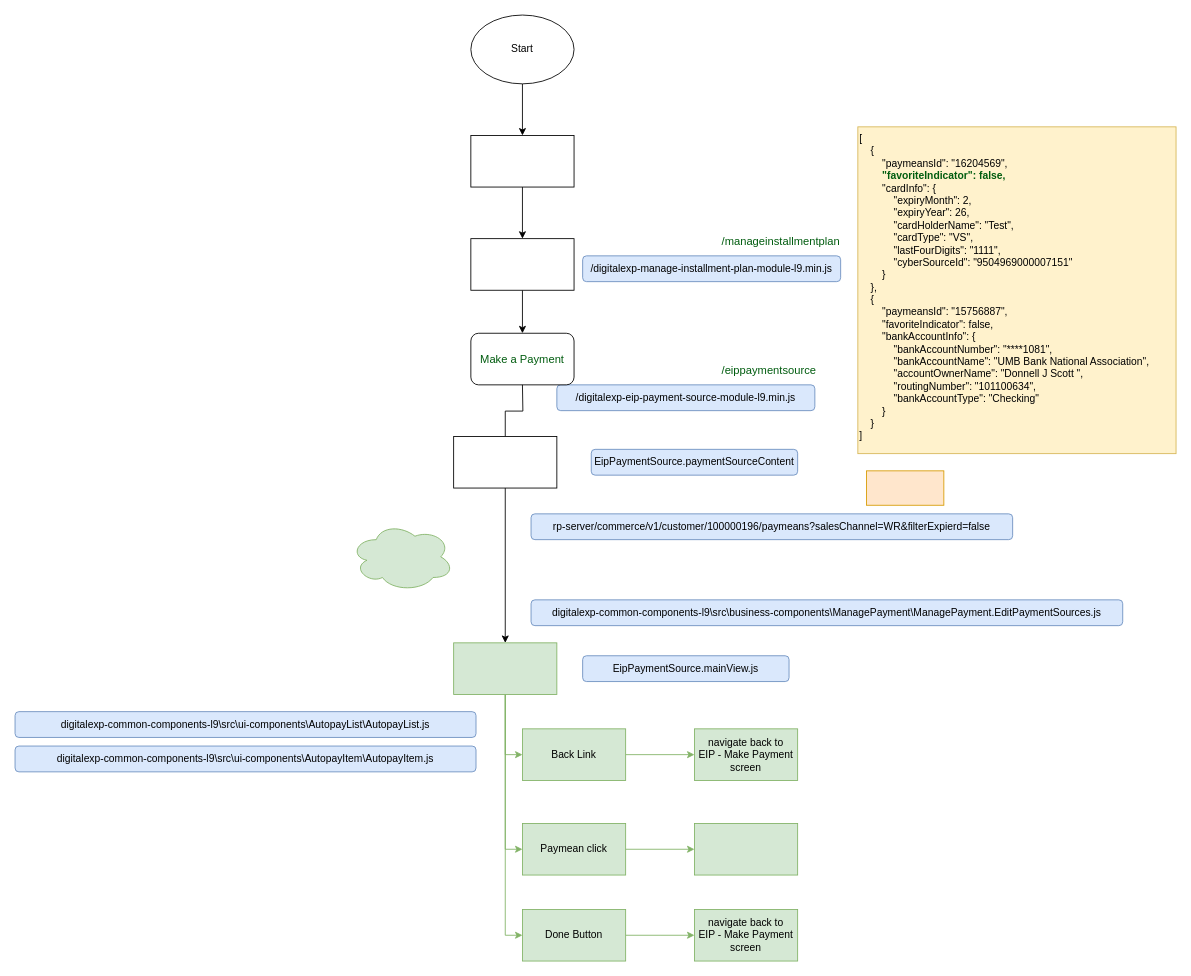
This 1191x976 diagram has some shape labels left out. The centre of each missing label's shape, as x and y in pixels:
Already having Api call for data: the point at 905,487
Device and Plans: the point at 522,161
Edit Payment Sources (link): the point at 505,462
Edit Payment Sources (page): the point at 505,668
Manage Installment: the point at 522,264
navigate to Edit Payment Source Screen: the point at 746,849
on click of this link open new view: the point at 402,556
